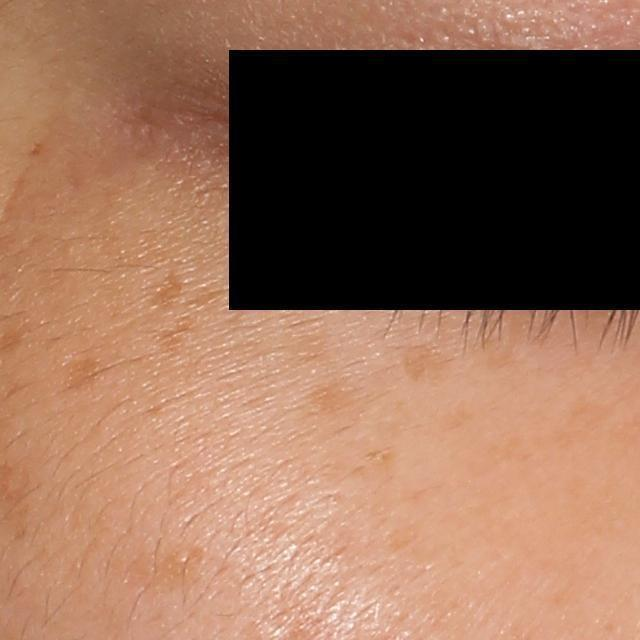melasma: (405, 346, 466, 386), (312, 382, 374, 418), (61, 356, 102, 390), (151, 270, 185, 309)
